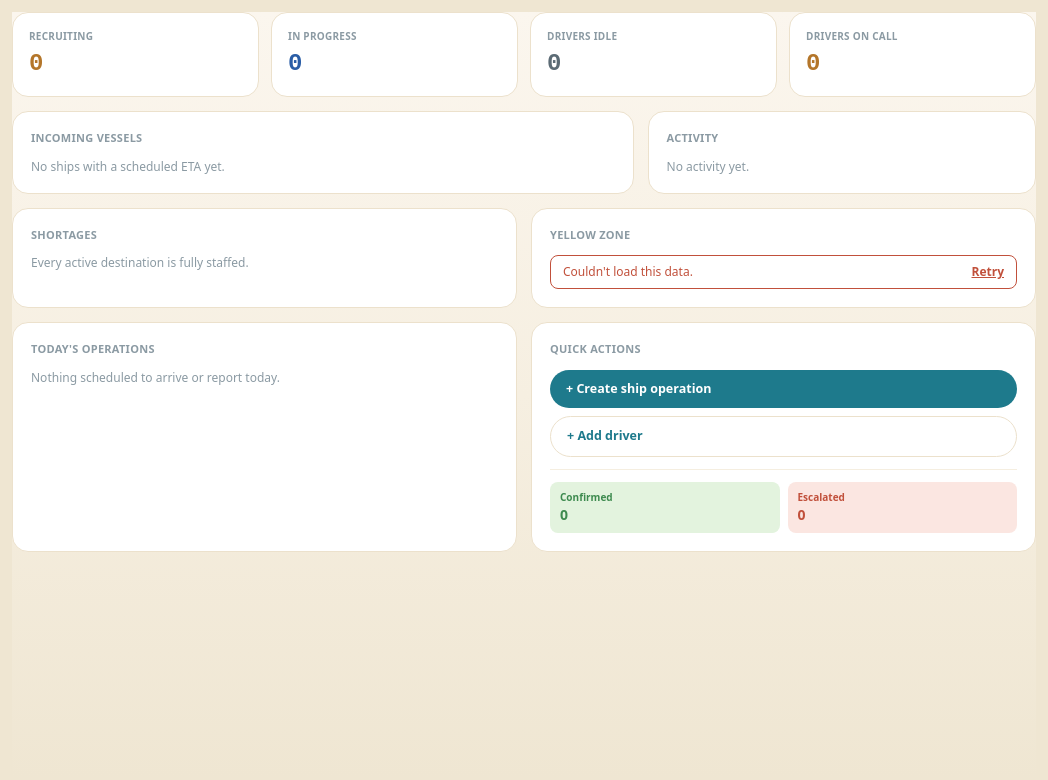
Test: DashboardPage — honest loading/error/empty/success states › retrying a failed panel refetches its underlying query
Click the button "Retry": (988, 272) left=972, top=264, right=1004, bottom=280
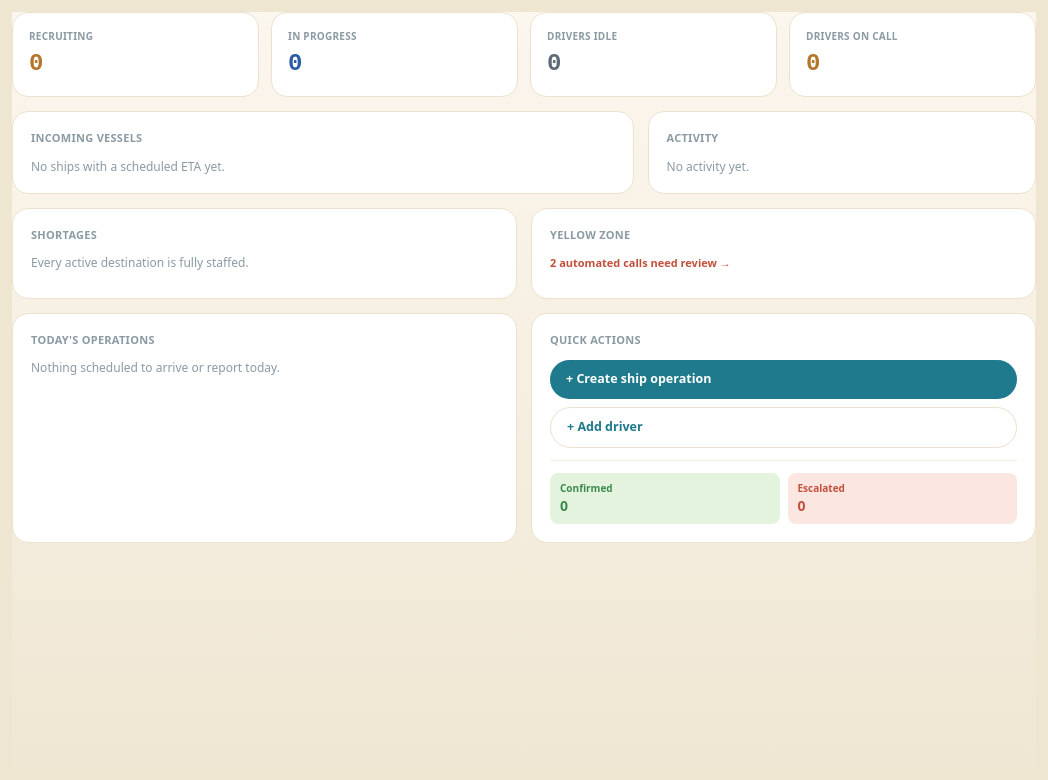
Check: the text "Couldn't load this data." is gone
